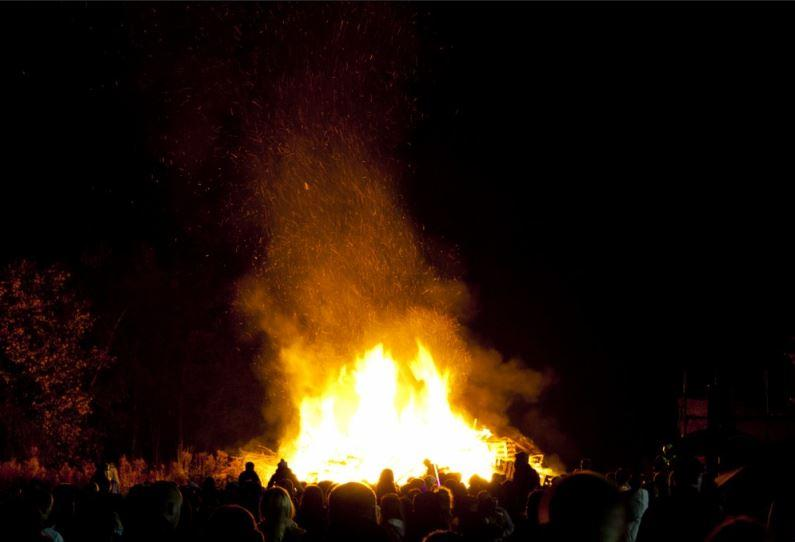fire: (258, 340, 532, 485)
smoke: (201, 130, 485, 316)
